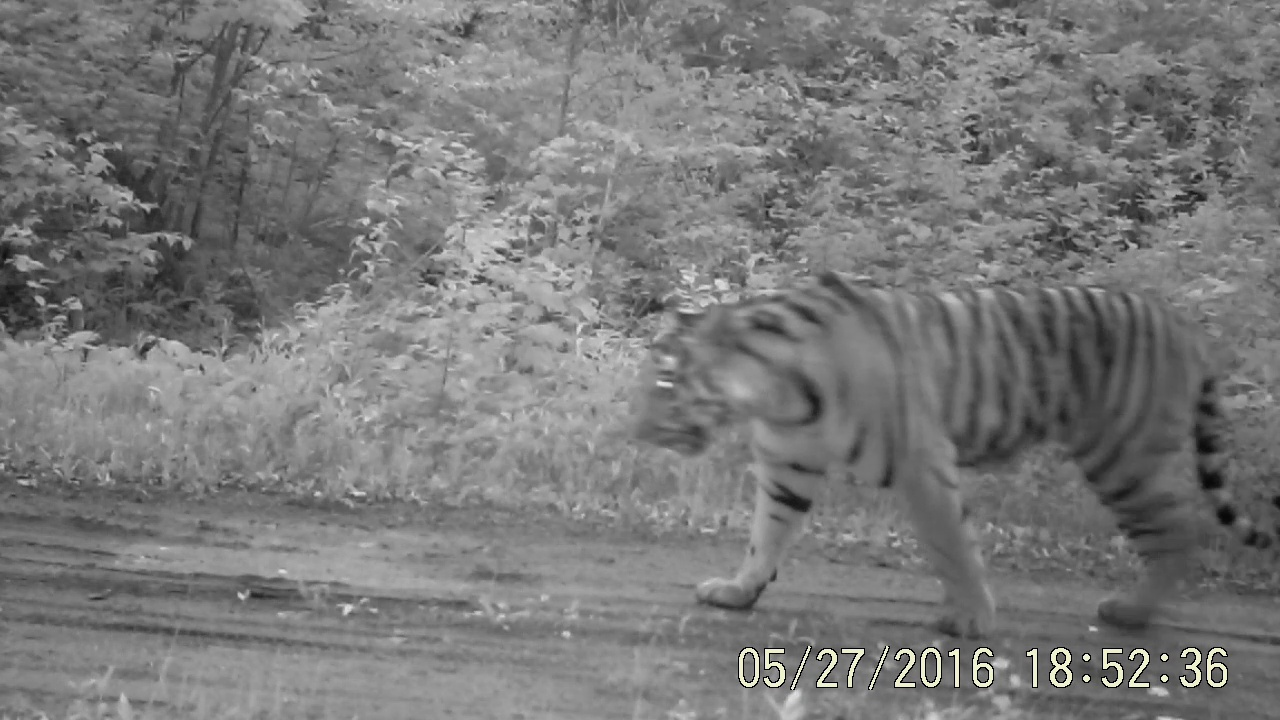Tiger: (579, 218, 1280, 635)
